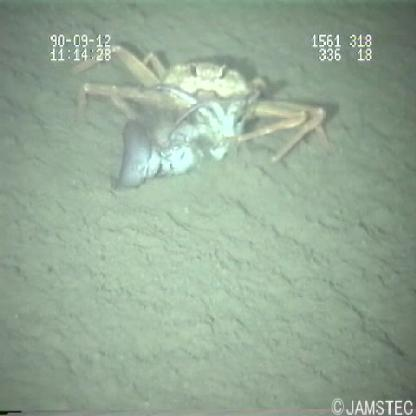Bio: (67, 42, 340, 190)
